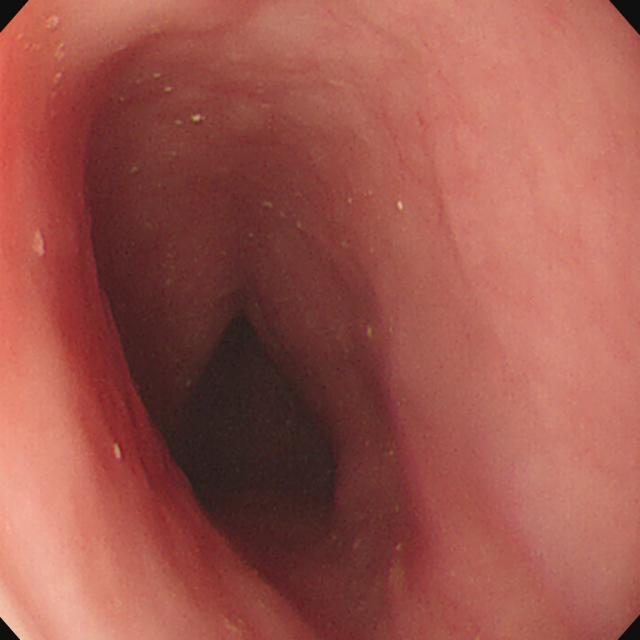E: (202, 314, 328, 499)
J: (52, 41, 68, 97), (32, 229, 47, 260), (45, 17, 61, 36), (114, 444, 124, 463), (191, 116, 207, 125), (398, 201, 405, 212)
